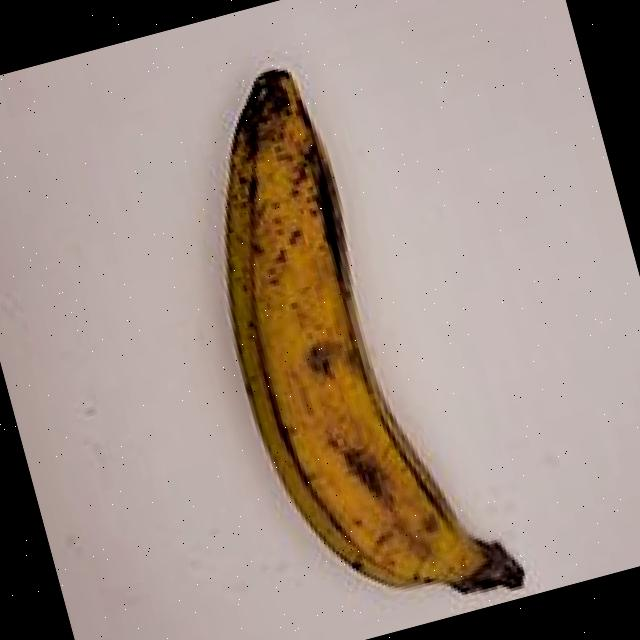Overripe: (111, 3, 582, 640)
